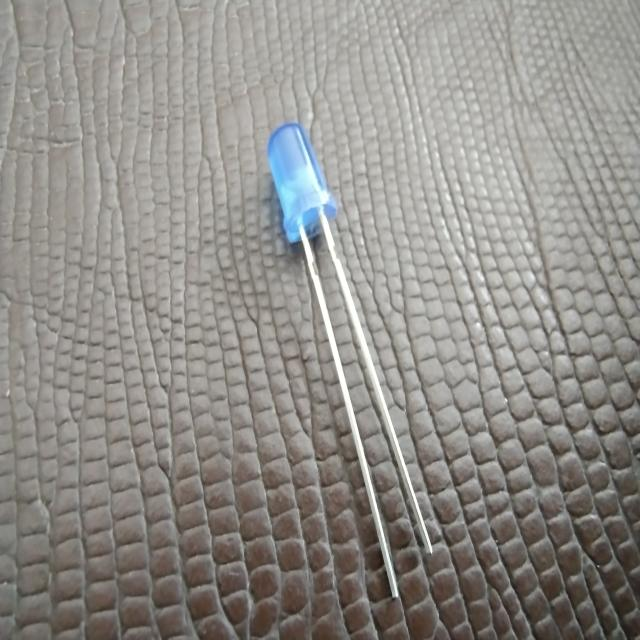blue_led: (266, 120, 338, 245)
